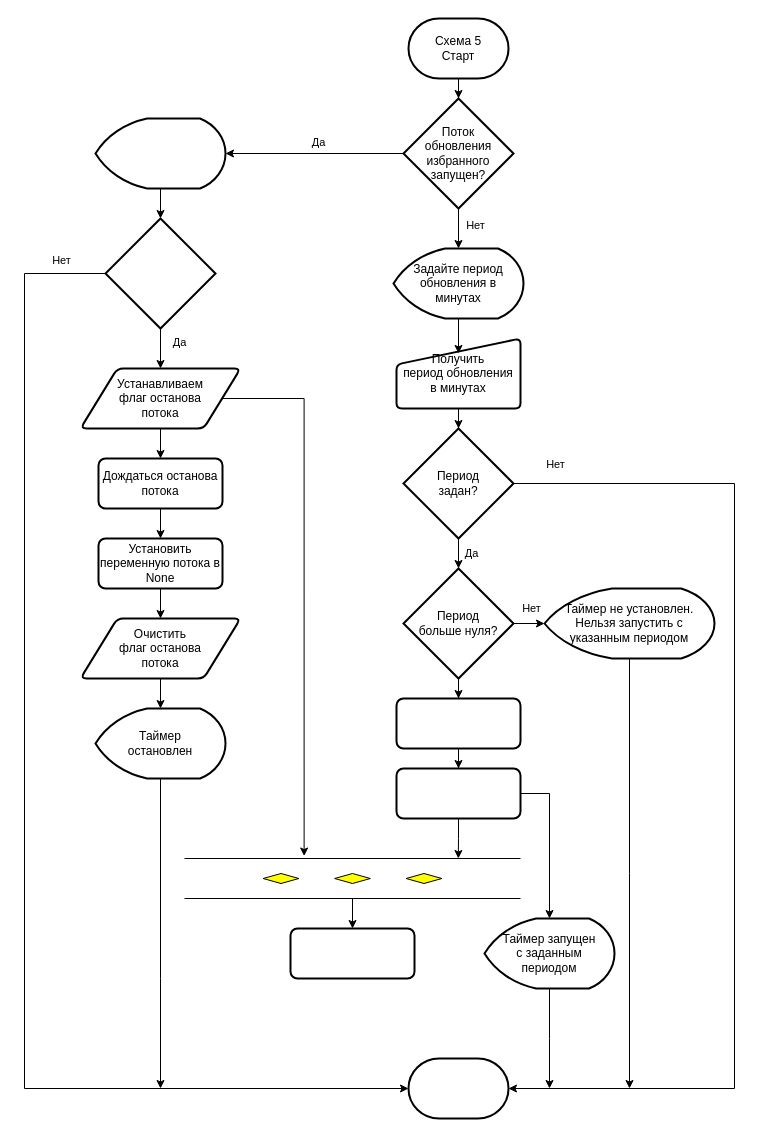
The diagram is 760 pixels wide and 1136 high, and some of its shapes have lost their labels. The shapes that lost their labels are listed below. From the top down, each one's centre as x and y in pixels, then its label:
At point 160,153: "Прервать работу таймера?".
At point 160,273: "Прервать работу потока?".
At point 458,723: "Пересчет заданного периода в секунды".
At point 458,793: "Запуск функции таймера (Схема 6)".
At point 352,953: "Работа таймера Схема 6".
At point 458,1088: "Схема 5 Стоп".
